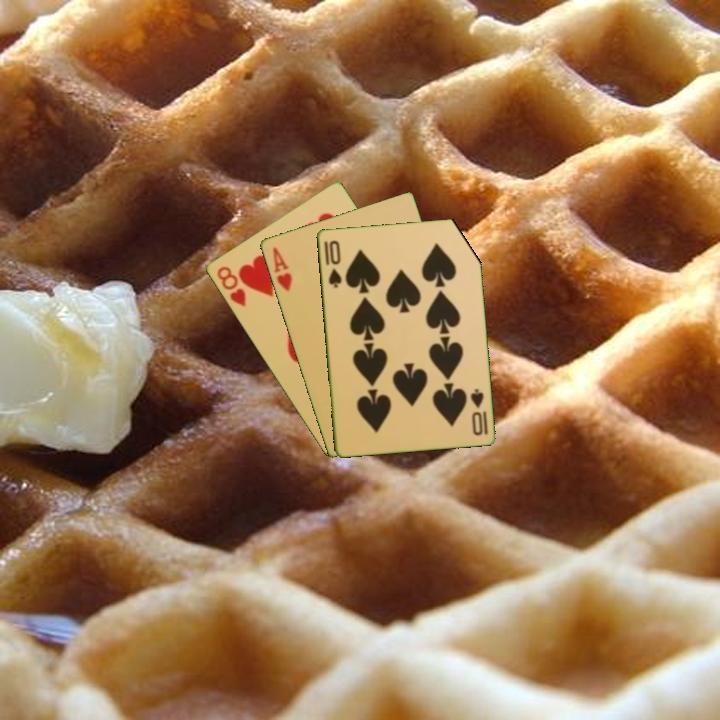10s: (467, 385, 490, 438), (325, 236, 344, 291)
8h: (213, 262, 248, 309)
Ah: (269, 243, 295, 294)
